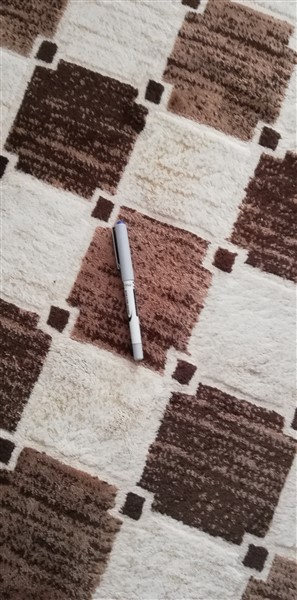pilot kalem: (107, 219, 154, 363)
